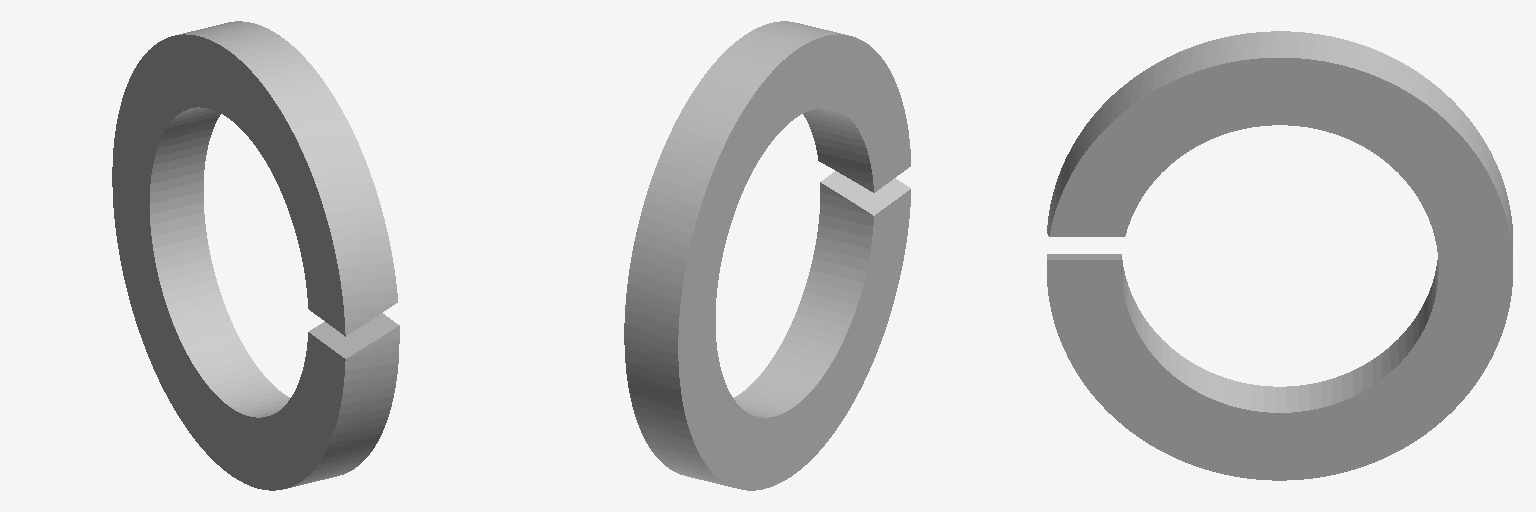
File: Шайба  5 L ГОСТ 6402-70.obj
3 renders of one model, left to right at view 1: azimuth 30°, elevation 25°; view 2: azimuth 150°, elevation 25°; view 3: azimuth 270°, elevation 25°, orthographic.
Parts seen in each view (by area): view 1: Solid1; view 2: Solid1; view 3: Solid1.
Boxes of the visible parts, x1=… form: Solid1: x1=112, y1=21, x2=399, y2=490; Solid1: x1=624, y1=21, x2=910, y2=490; Solid1: x1=1047, y1=31, x2=1512, y2=480.
Size of the model in its own units: 1 by 7.5 by 7.5.